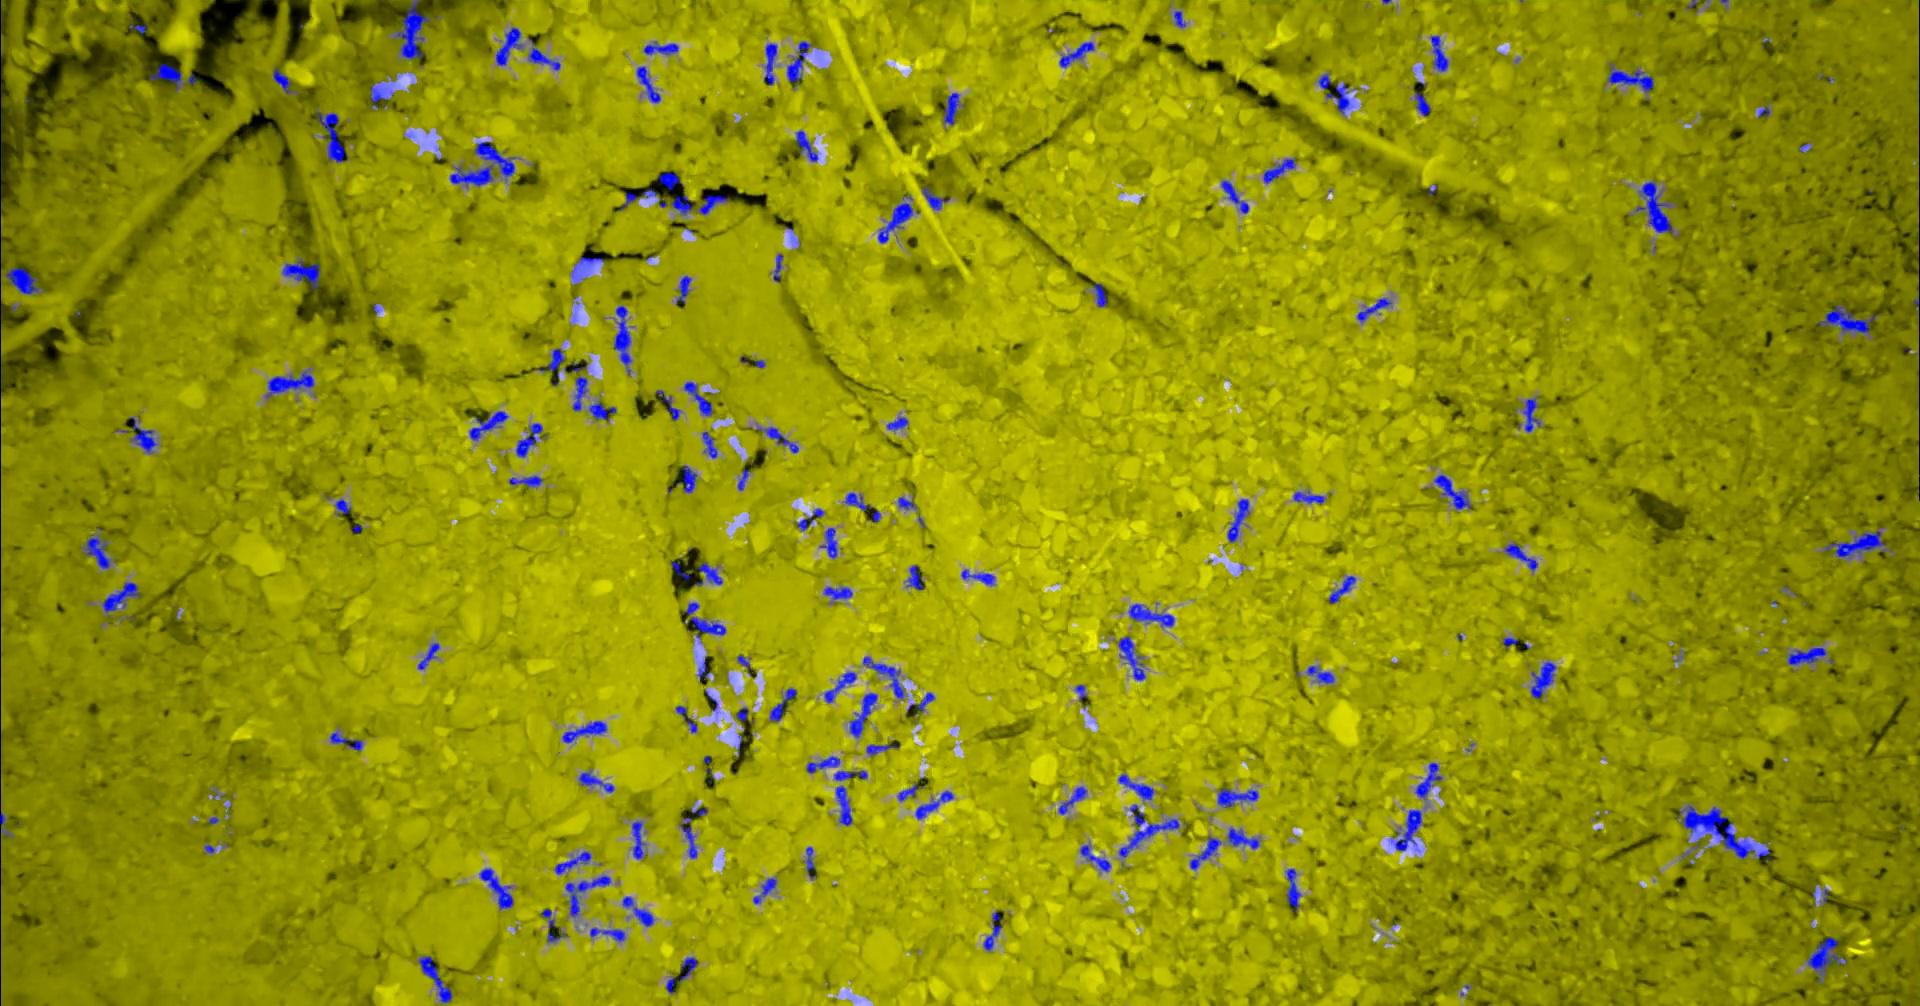ant: (1117, 804, 1178, 857), (394, 0, 430, 58), (877, 194, 918, 243), (1636, 180, 1672, 232), (565, 875, 610, 917), (1807, 936, 1846, 982), (1817, 304, 1878, 333), (862, 655, 903, 699), (1823, 530, 1886, 558), (418, 955, 452, 1005), (316, 111, 347, 163), (684, 602, 725, 636), (479, 868, 512, 909), (1432, 474, 1470, 509), (265, 370, 312, 398), (1608, 64, 1653, 91), (613, 305, 631, 375), (1318, 72, 1349, 113), (1117, 636, 1145, 680), (850, 692, 876, 737), (756, 426, 797, 453), (786, 41, 811, 86), (469, 410, 508, 439), (282, 259, 319, 290), (102, 582, 138, 612), (1394, 809, 1421, 850), (128, 417, 157, 453), (916, 790, 952, 819), (1128, 603, 1175, 626), (527, 37, 559, 70), (1189, 836, 1220, 869), (495, 27, 522, 65), (5, 267, 43, 293), (824, 671, 856, 702), (683, 381, 712, 415), (1227, 498, 1250, 541), (563, 720, 606, 743), (1415, 762, 1441, 799), (1530, 661, 1556, 699), (538, 348, 564, 385), (622, 895, 653, 926), (149, 64, 182, 91), (1220, 180, 1248, 213), (1503, 542, 1537, 570), (1059, 41, 1093, 67), (516, 423, 542, 457), (1117, 774, 1153, 799), (636, 65, 660, 102), (84, 535, 110, 568), (770, 688, 796, 721), (1079, 843, 1110, 871), (554, 851, 590, 874), (1356, 297, 1390, 321), (1263, 158, 1295, 183), (670, 560, 702, 586), (1217, 788, 1258, 807), (655, 390, 681, 420), (982, 909, 1001, 950), (578, 771, 613, 793), (1328, 575, 1355, 603), (1058, 786, 1086, 813), (571, 257, 603, 279), (1284, 868, 1300, 911), (795, 130, 817, 161), (1227, 827, 1258, 848), (1787, 647, 1825, 664), (921, 185, 949, 210), (943, 91, 964, 124), (836, 785, 852, 826), (752, 876, 776, 903), (417, 641, 439, 669), (681, 815, 696, 857), (1430, 36, 1448, 71), (329, 732, 362, 751), (905, 692, 935, 713), (676, 465, 697, 492), (796, 508, 823, 530), (698, 194, 728, 213), (698, 561, 723, 584), (1523, 398, 1539, 431), (806, 756, 839, 772), (819, 527, 837, 558), (676, 705, 696, 732), (844, 492, 872, 511), (571, 376, 587, 410), (1305, 666, 1335, 683), (763, 43, 776, 84), (272, 67, 292, 93), (631, 821, 645, 857), (588, 400, 615, 419), (961, 569, 994, 584), (643, 41, 678, 55), (589, 927, 623, 941), (370, 83, 387, 107), (905, 565, 923, 589), (679, 956, 697, 981), (676, 276, 691, 304), (670, 194, 691, 215), (658, 171, 679, 191), (618, 191, 640, 210), (823, 586, 852, 600), (702, 431, 717, 457), (1293, 490, 1324, 503), (508, 475, 542, 486), (1415, 91, 1430, 116), (897, 782, 916, 800), (834, 770, 867, 780), (805, 846, 815, 879), (866, 744, 898, 754), (1092, 283, 1106, 306), (698, 655, 711, 680), (886, 417, 907, 431), (737, 654, 750, 674), (897, 495, 916, 509), (540, 908, 554, 927), (737, 467, 748, 490), (334, 499, 350, 514), (773, 253, 782, 281), (0, 810, 10, 835), (1173, 10, 1185, 27), (1076, 683, 1086, 701), (737, 708, 748, 721), (128, 24, 146, 33), (1502, 636, 1517, 647), (665, 977, 674, 993)
